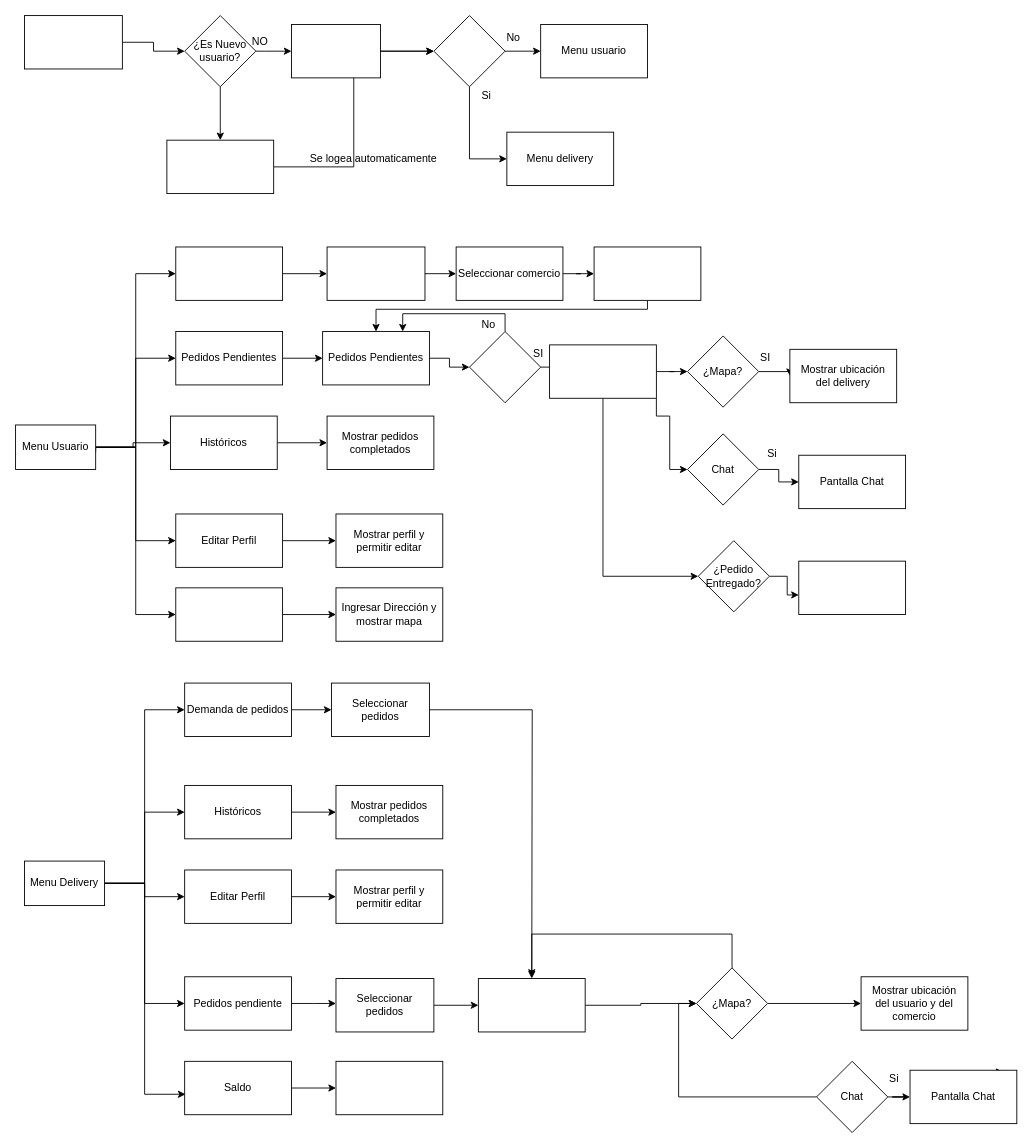
The diagram is 1032 pixels wide and 1148 high, and some of its shapes have lost their labels. The box of each missing label's shape, as (x1, y1, x2, y2) in pixels:
Categorias: (326, 246, 425, 300)
Confirmar pedido y calificar delivery: (798, 560, 906, 615)
Datos del pedido y del clients, chat: (477, 978, 585, 1032)
Editar Destino: (175, 587, 283, 641)
Información del delivery , mapa y chat: (549, 344, 656, 398)
ingreso la app: (24, 15, 122, 69)
Login: (291, 24, 380, 78)
Mostrar Saldo: (335, 1060, 443, 1115)
Pedir: (175, 246, 283, 300)
Registrar: (166, 139, 274, 194)
Seleccionar productos y cantidad: (593, 246, 701, 300)
¿Es delivery?: (433, 15, 505, 87)
¿Pedido tomado?: (469, 331, 541, 403)
